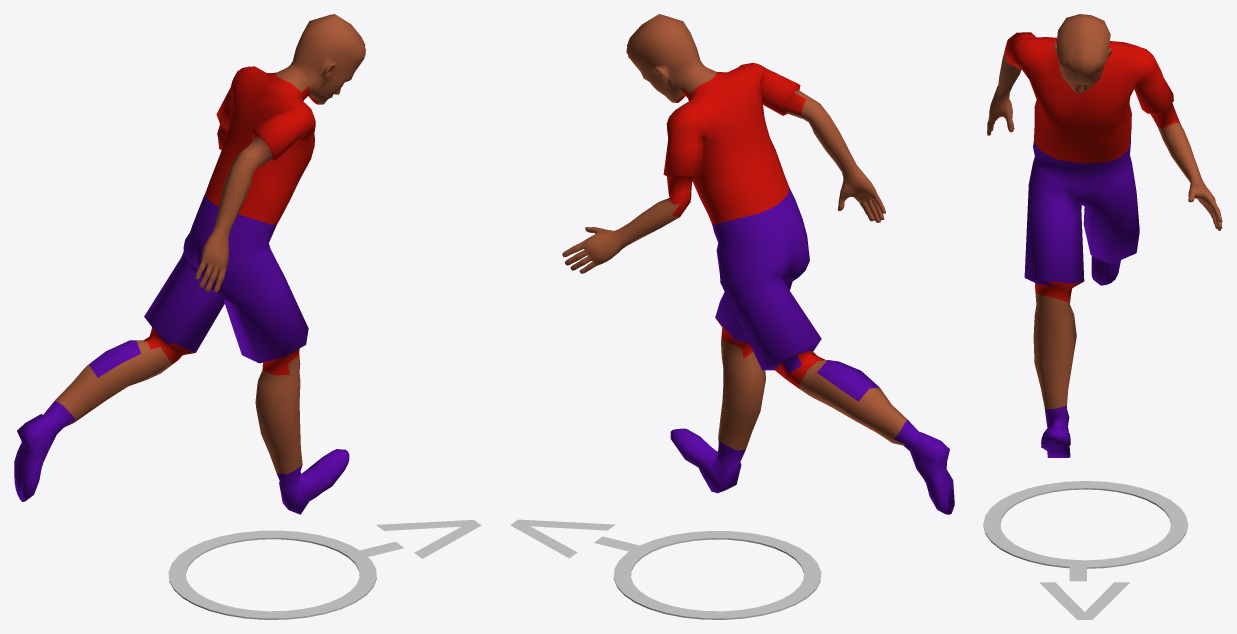
The model's file is player_000001.obj.
The picture shows the model from 3 angles, left to right: view 1: azimuth 30°, elevation 25°; view 2: azimuth 150°, elevation 25°; view 3: azimuth 270°, elevation 25°; orthographic projection.
Parts seen in each view (by area): view 1: soccerplayer.002_mesh.003, Circle, Text.001_Mesh.001; view 2: soccerplayer.002_mesh.003, Circle, Text.001_Mesh.001; view 3: soccerplayer.002_mesh.003, Circle, Text.001_Mesh.001.
Part boxes in pixels (<box>): soccerplayer.002_mesh.003: <box>14,14,365,514</box>; Circle: <box>168,530,376,619</box>; Text.001_Mesh.001: <box>355,520,481,558</box>; soccerplayer.002_mesh.003: <box>562,14,954,514</box>; Circle: <box>613,531,821,619</box>; Text.001_Mesh.001: <box>510,519,642,558</box>; soccerplayer.002_mesh.003: <box>987,14,1222,457</box>; Circle: <box>983,481,1187,568</box>; Text.001_Mesh.001: <box>1039,562,1129,619</box>.
Bounding box in the file's own units: 2.69 × 3.15 × 1.27.
